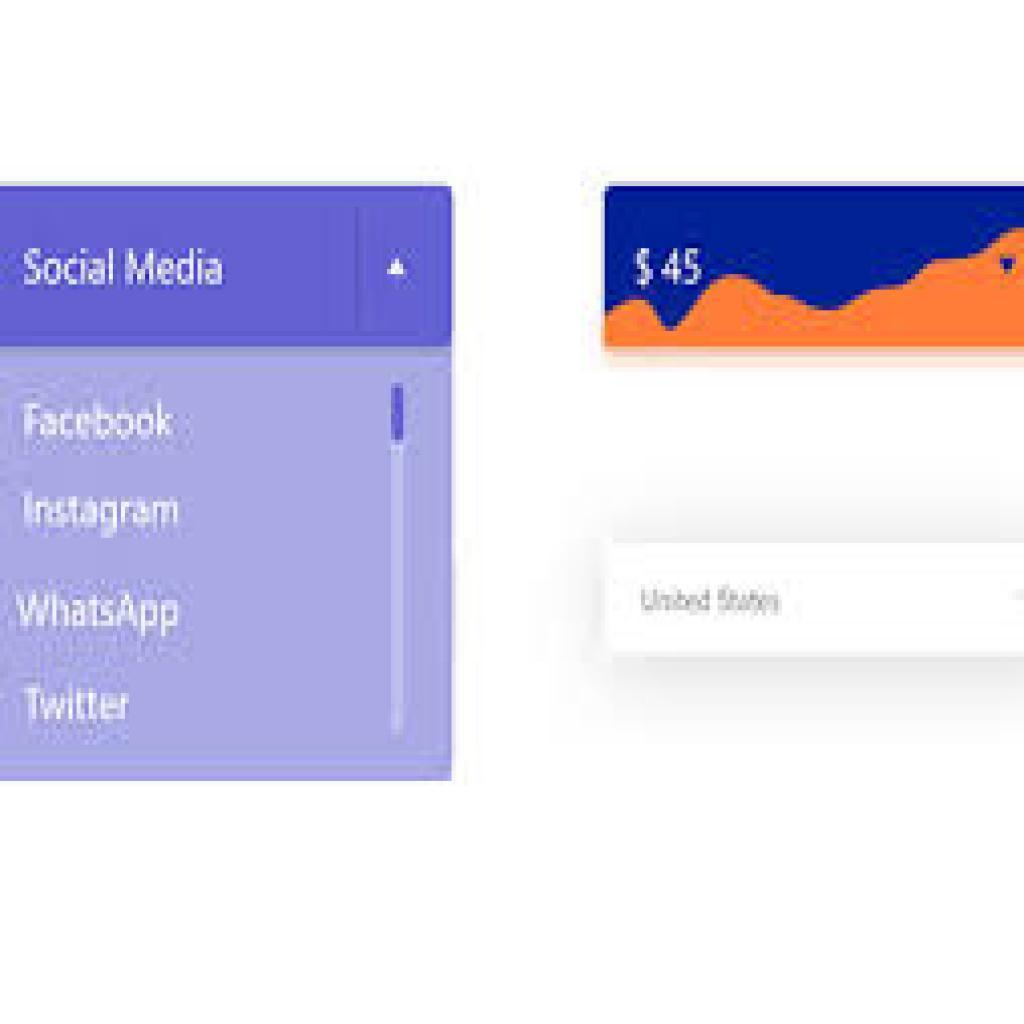dropdown: (0, 183, 451, 342)
